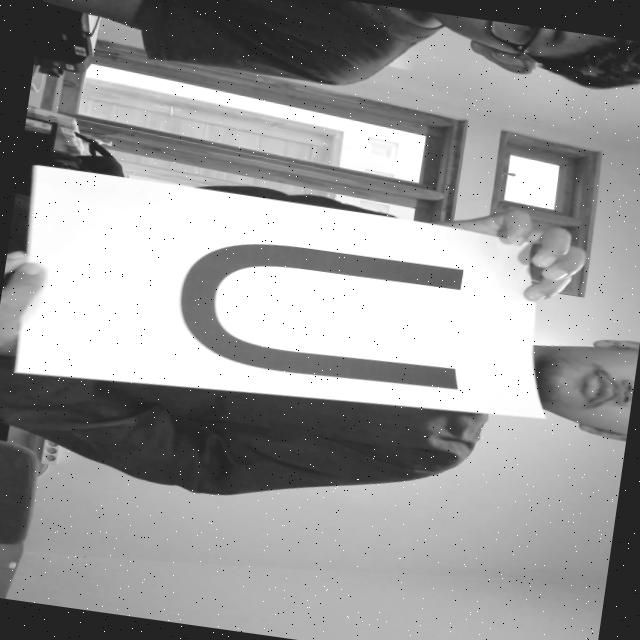u: (155, 222, 483, 404)
